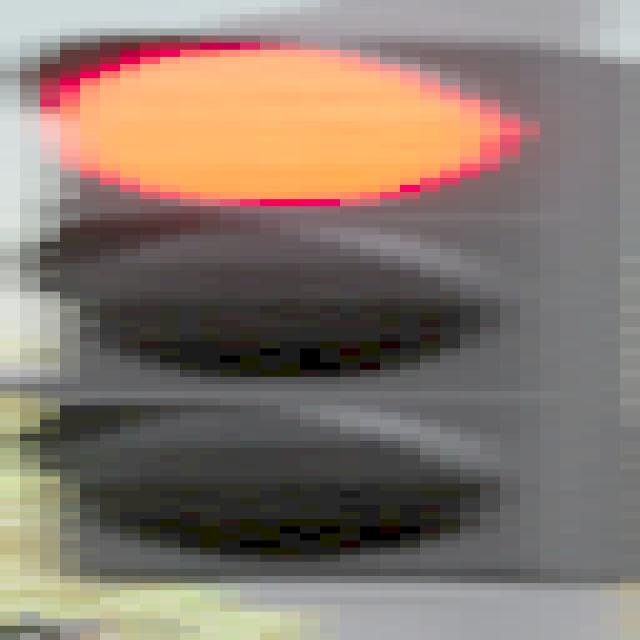red_light: (20, 32, 633, 594)
